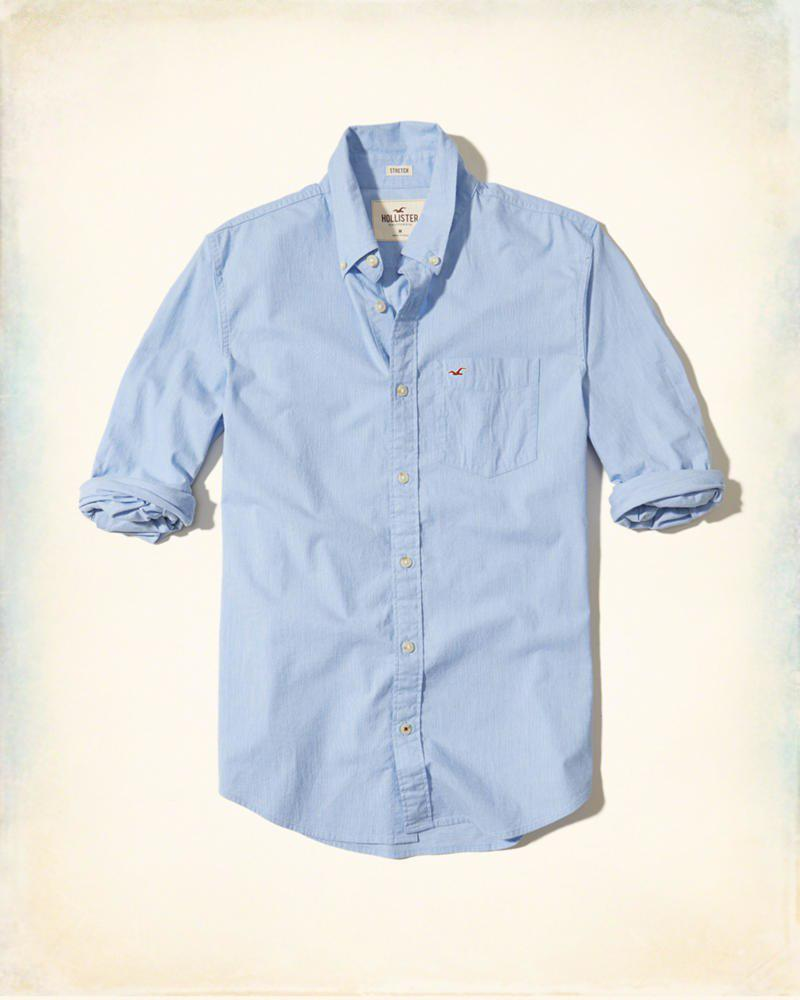teeshirt: (83, 118, 739, 871)
